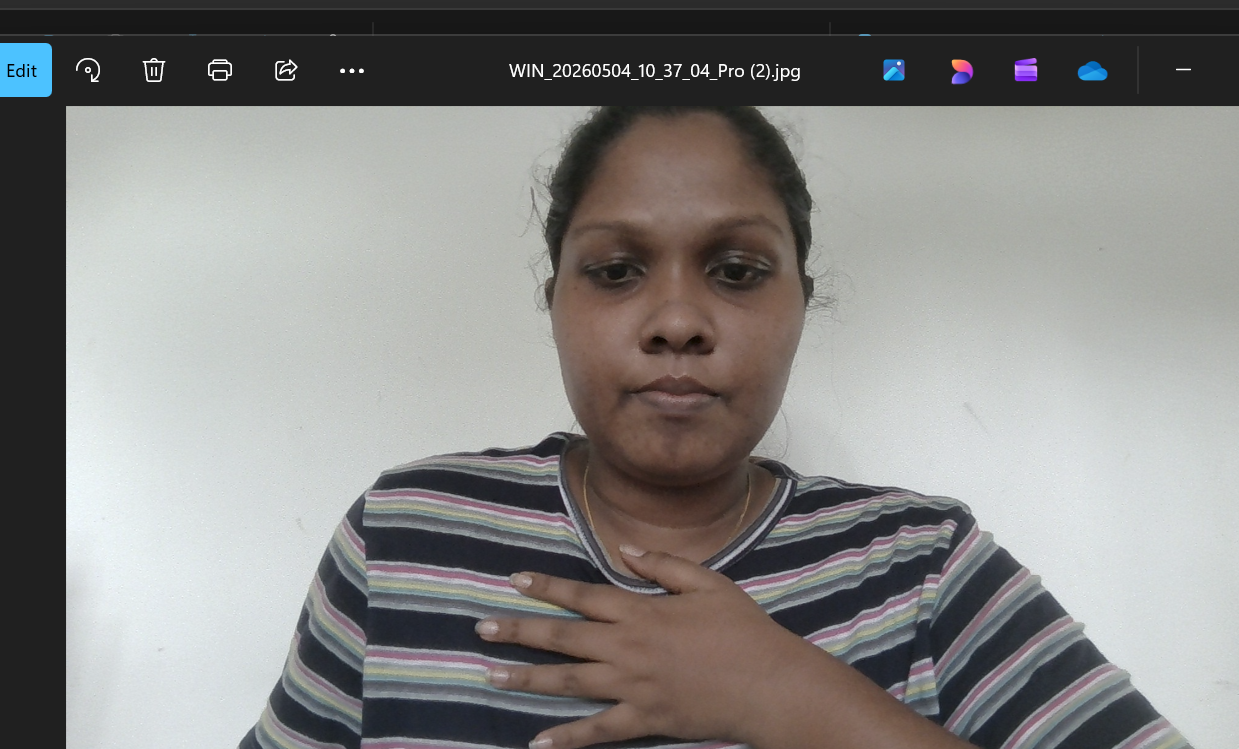Please: (450, 507, 910, 746)
